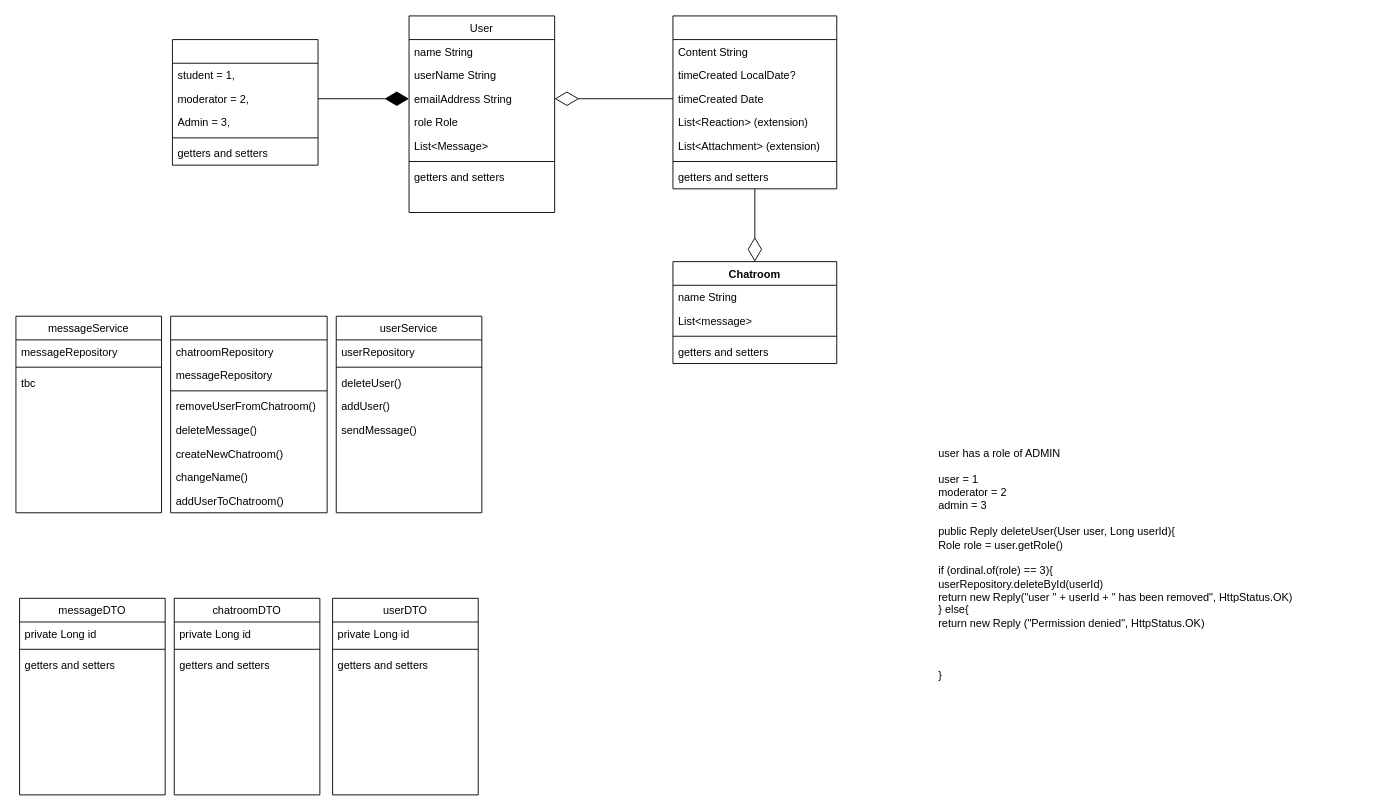
Image size: 1399x811. Some labels were removed from this diagram. The box of each missing label's shape, as (x1, y1, x2, y2) in pixels:
chatroomService: (170, 315, 327, 513)
message: (672, 15, 837, 189)
RoleEnum: (172, 39, 318, 165)
